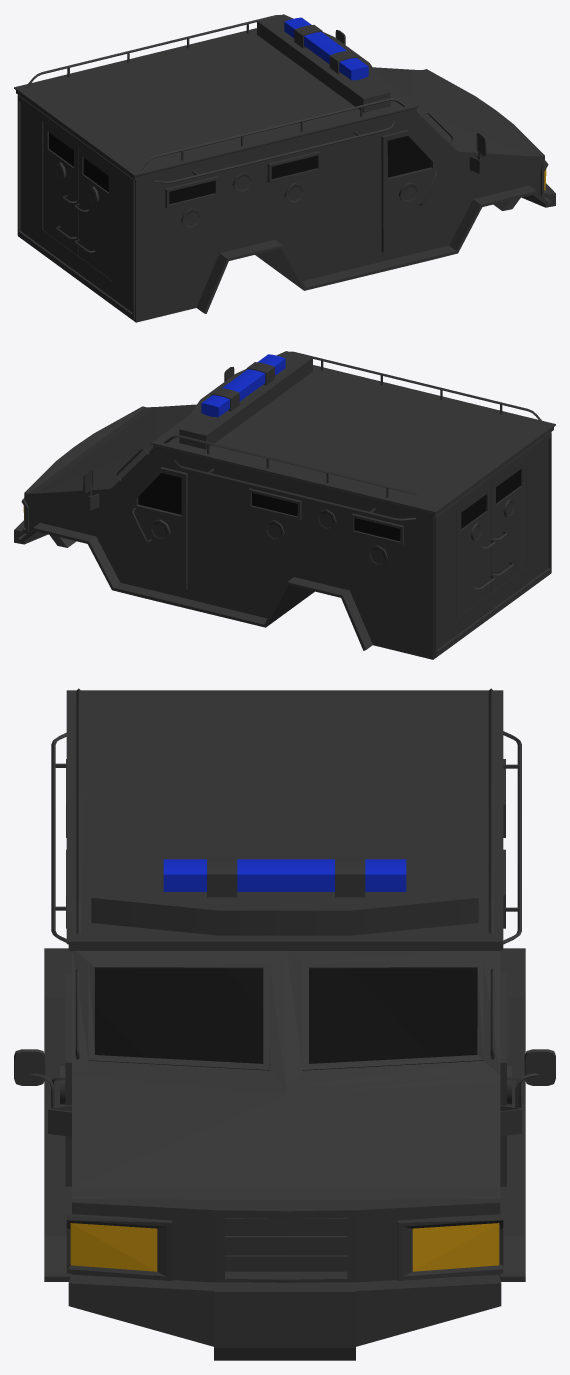
Rendered from SM_swat_vehicle_base.fbx.
The picture shows the model from 3 angles, top to bottom: view 1: azimuth 30°, elevation 25°; view 2: azimuth 150°, elevation 25°; view 3: azimuth 270°, elevation 25°; orthographic projection. The views are drawn at different scales.
Parts seen in each view (by area): view 1: Object32307; view 2: Object32307; view 3: Object32307.
Boxes of the visible parts, bbox=[...] form: Object32307: bbox=[14, 14, 555, 322]; Object32307: bbox=[14, 351, 555, 659]; Object32307: bbox=[14, 688, 555, 1360].
Size of the model in its own units: 231 by 97.81 by 138.
